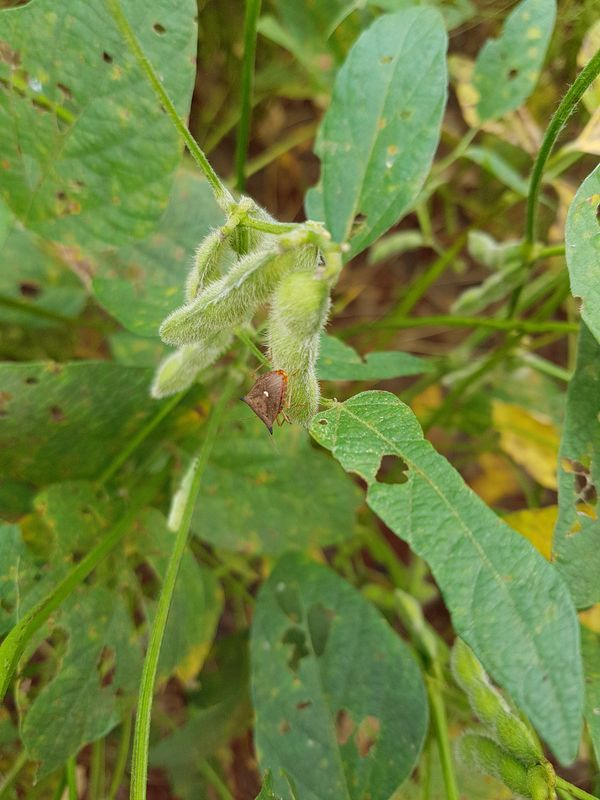Euschistus_heros_adulto: (230, 353, 309, 444)
